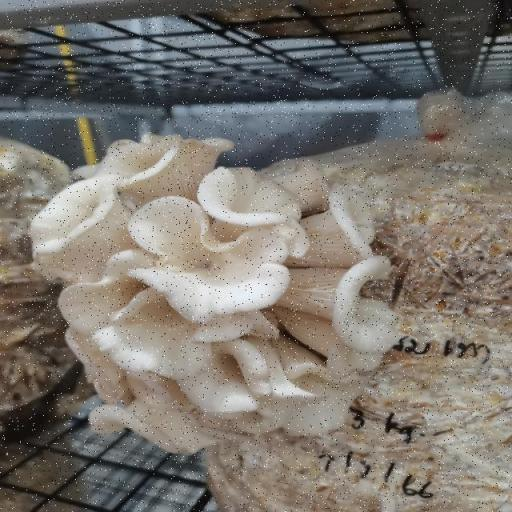White Oyster Mushroom: (6, 71, 434, 497)
